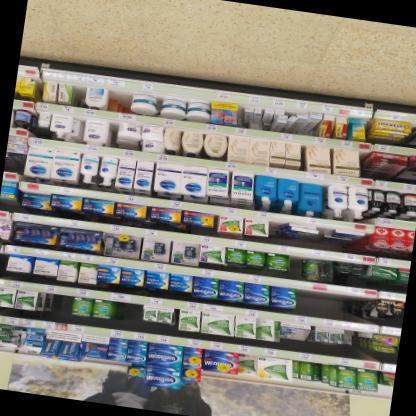empty_space: (294, 289, 363, 325), (111, 299, 145, 333), (43, 291, 73, 323), (107, 89, 133, 115)
